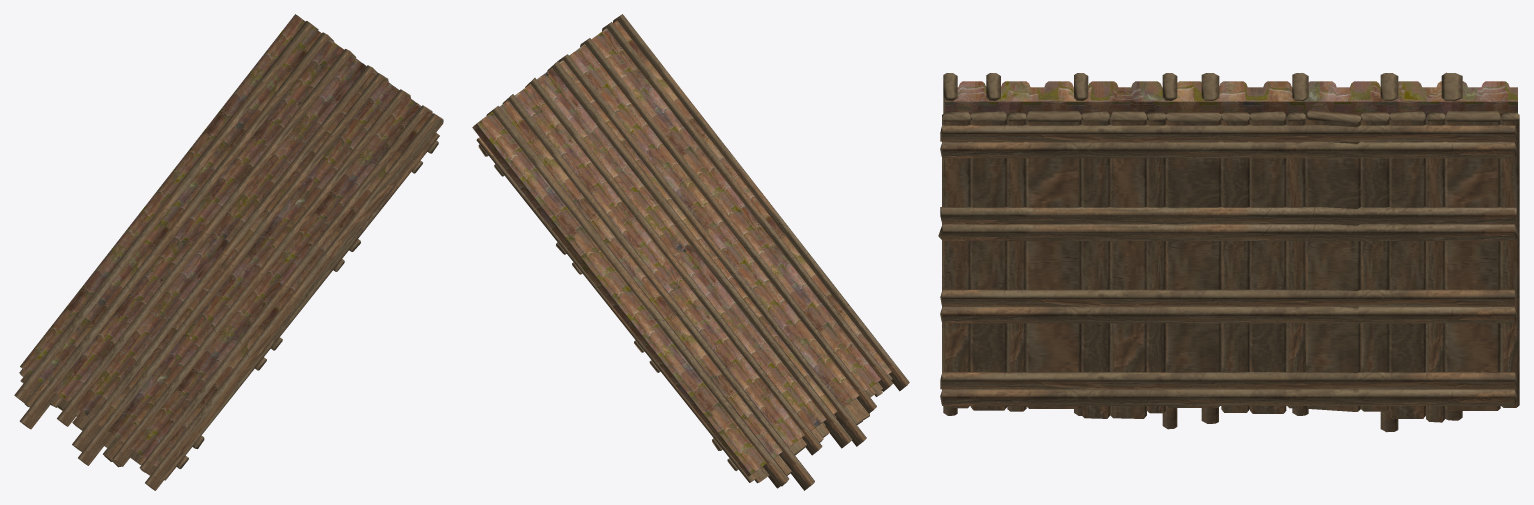
File: SM_roof_04_base_01.fbx
3 renders of one model, left to right at view 1: azimuth 30°, elevation 25°; view 2: azimuth 150°, elevation 25°; view 3: azimuth 270°, elevation 25°, orthographic. The views are drawn at different scales.
Visible parts, largest first — view 1: SM_roof_04_base_01_LOD0; view 2: SM_roof_04_base_01_LOD0; view 3: SM_roof_04_base_01_LOD0.
Part boxes in pixels (x1,y1,x2,y2): SM_roof_04_base_01_LOD0: [14, 14, 443, 490]; SM_roof_04_base_01_LOD0: [472, 14, 909, 490]; SM_roof_04_base_01_LOD0: [938, 72, 1519, 432].
Bounding box in the file's own units: 501 × 406 × 497.
2 materials, 2 textured.
